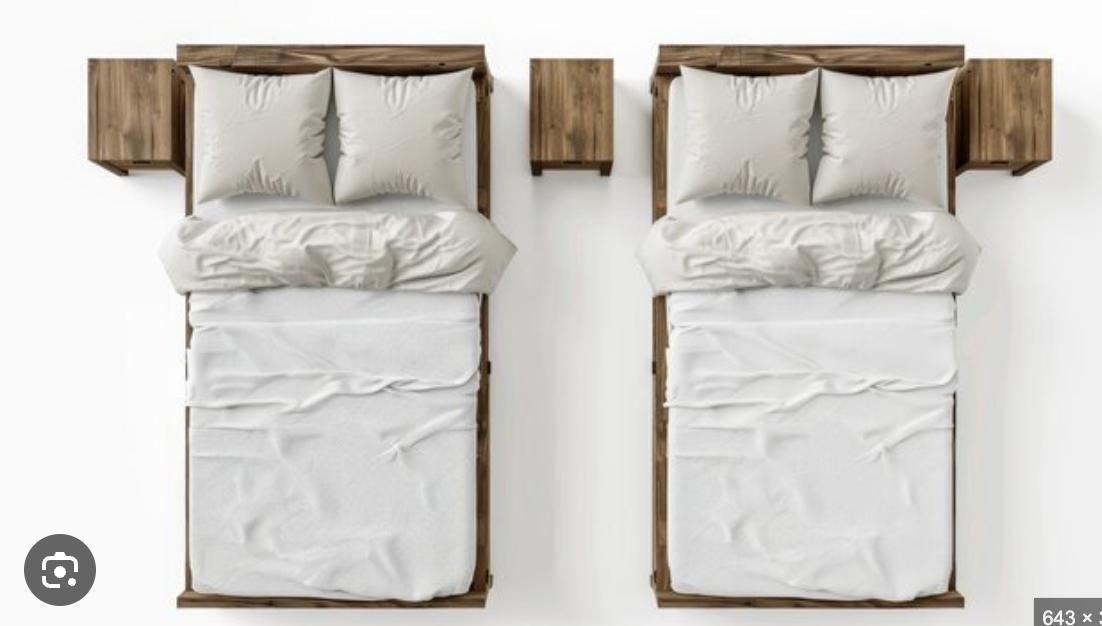Bed-Mattress: (176, 39, 498, 615), (648, 38, 970, 614)
